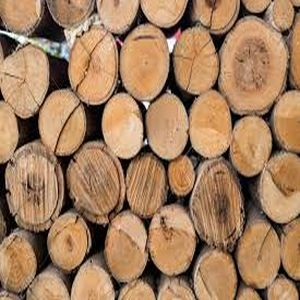log: (216, 14, 290, 120), (3, 144, 67, 233), (188, 158, 249, 251), (66, 141, 129, 227), (66, 23, 120, 111), (119, 21, 173, 105), (1, 41, 53, 121), (172, 21, 223, 101), (147, 205, 201, 279), (36, 88, 90, 160), (105, 210, 153, 284), (144, 89, 192, 162), (187, 89, 234, 162), (256, 151, 300, 224), (45, 210, 94, 274), (124, 151, 169, 220), (228, 114, 273, 183), (100, 93, 145, 162), (239, 222, 283, 289), (189, 247, 240, 300), (1, 232, 36, 294), (167, 151, 199, 202), (68, 264, 111, 300), (24, 271, 68, 300), (269, 1, 295, 34), (265, 277, 300, 299)
